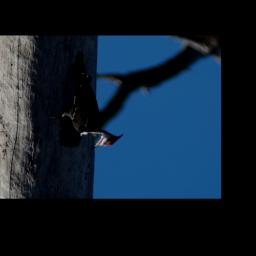Woodpecker: (48, 51, 124, 150)
